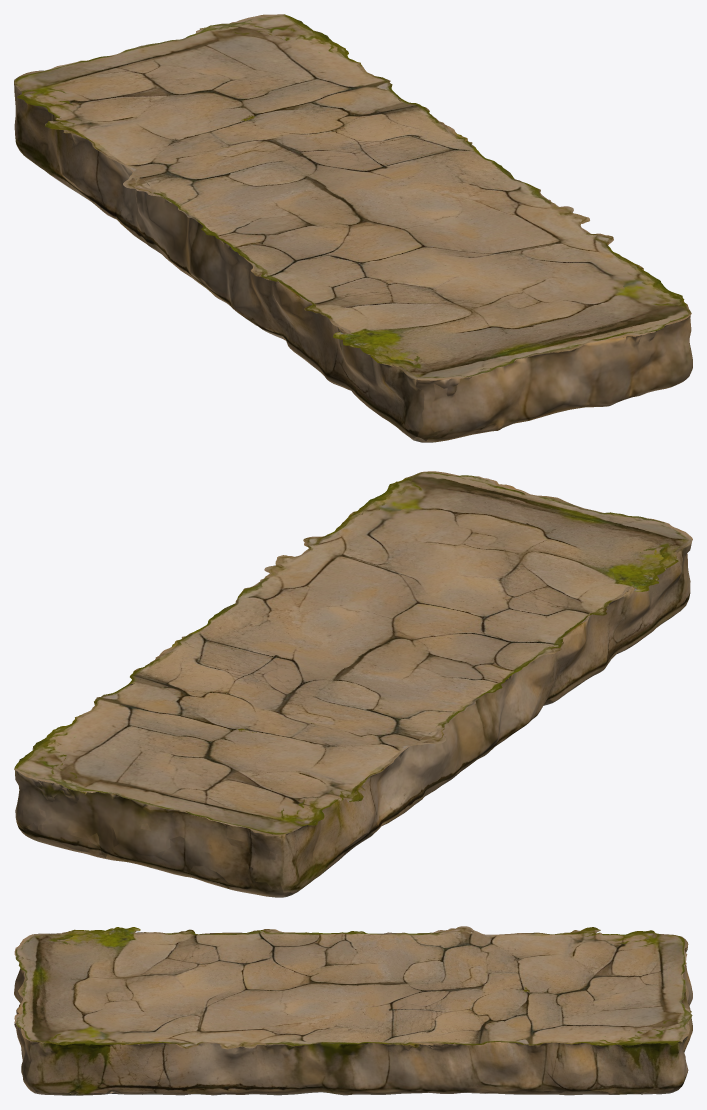
The model's file is route.glb.
3 renders of one model, top to bottom at view 1: azimuth 30°, elevation 25°; view 2: azimuth 150°, elevation 25°; view 3: azimuth 270°, elevation 25°, orthographic. The views are drawn at different scales.
Parts seen in each view (by area): view 1: loup_texture.obj; view 2: loup_texture.obj; view 3: loup_texture.obj.
Part boxes in pixels (x1,y1,x2,y2): loup_texture.obj: [14, 14, 692, 442]; loup_texture.obj: [14, 471, 692, 897]; loup_texture.obj: [14, 926, 692, 1095].
Size of the model in its own units: 12 by 2.6 by 28.
1 material, 1 textured.
